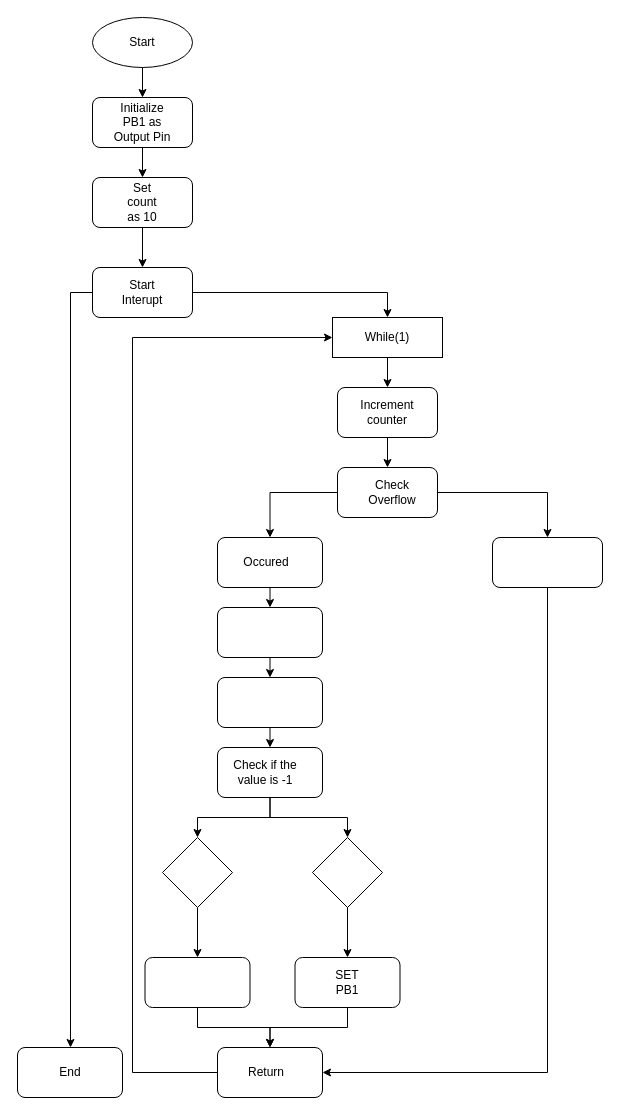
Image size: 620x1115. Some labels were removed from this diagram. The box of each missing label's shape, as (x1, y1, x2, y2) in pixels:
Call Interrupt: (216, 606, 322, 658)
Decrement the factor variable: (216, 676, 322, 728)
False: (312, 836, 382, 908)
Not Occured: (492, 536, 602, 588)
Reset count and PB1: (144, 956, 250, 1008)
True: (162, 836, 232, 908)
